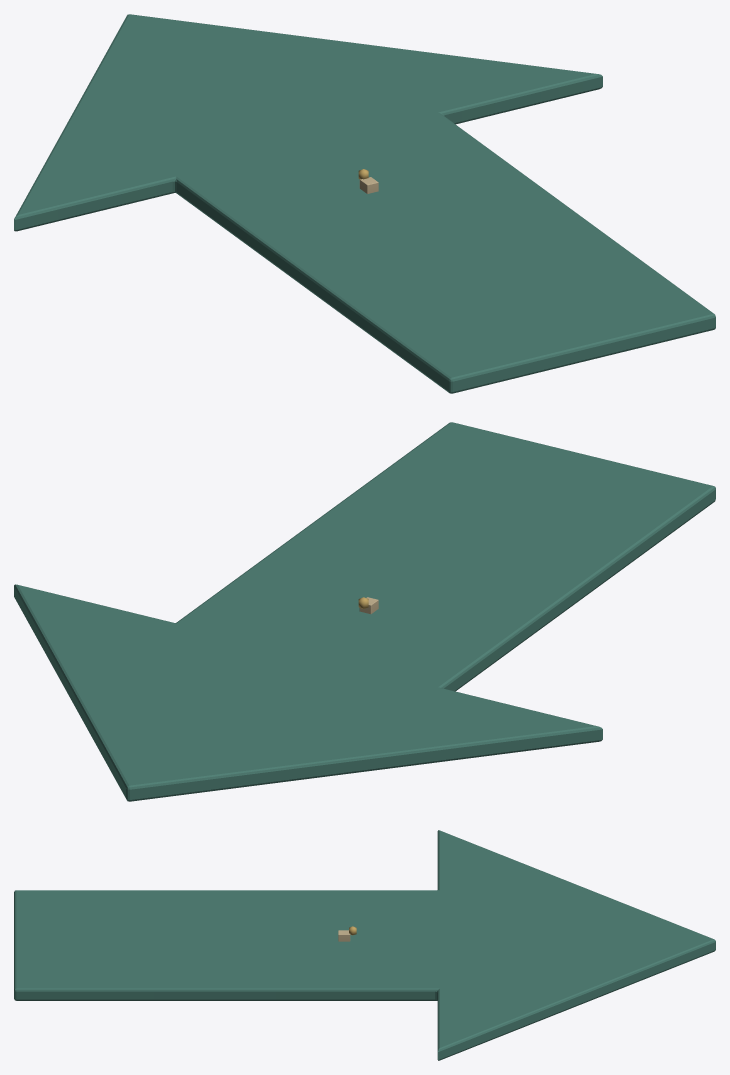
Rendered from guide_arrow.glb.
3 views of the same model, one above another, from view 1: azimuth 30°, elevation 25°; view 2: azimuth 150°, elevation 25°; view 3: azimuth 270°, elevation 25° (orthographic). The views are drawn at different scales.
Bounding box in the file's own units: 0.618 × 0.033 × 0.8288.
